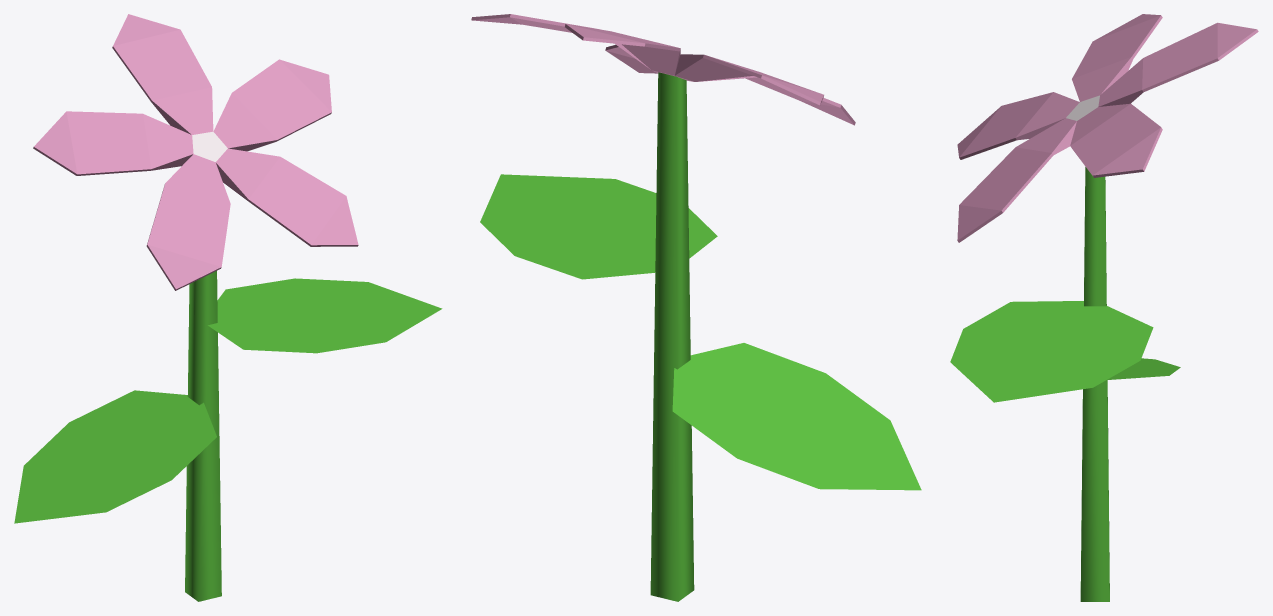
The model's file is Flower_26.fbx.
3 views of the same model, side by side, from view 1: azimuth 30°, elevation 25°; view 2: azimuth 150°, elevation 25°; view 3: azimuth 270°, elevation 25° (orthographic). The views are drawn at different scales.
Parts seen in each view (by area): view 1: Flower_26; view 2: Flower_26; view 3: Flower_26.
Boxes of the visible parts, box(x1,y1,x2,y2) form: Flower_26: box(14, 14, 442, 601); Flower_26: box(471, 14, 921, 601); Flower_26: box(950, 14, 1258, 601).
Size of the model in its own units: 45.81 by 58.61 by 28.93.
